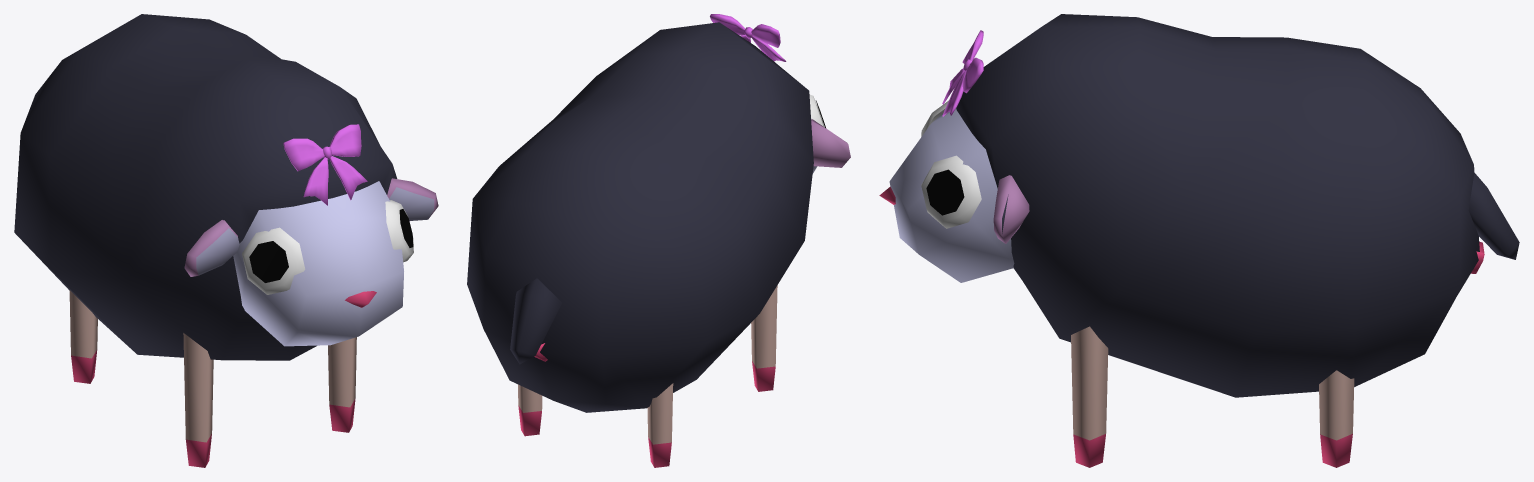
Rendered from Sheep_Black_female.fbx.
3 renders of one model, left to right at view 1: azimuth 30°, elevation 25°; view 2: azimuth 150°, elevation 25°; view 3: azimuth 270°, elevation 25°, orthographic. The views are drawn at different scales.
Parts seen in each view (by area): view 1: Sheep, ribbon_翅_Plane.008; view 2: Sheep, ribbon_翅_Plane.008; view 3: Sheep, ribbon_翅_Plane.008.
Boxes of the visible parts, <box> form: Sheep: <box>14,14,438,467</box>; ribbon_翅_Plane.008: <box>283,124,367,205</box>; Sheep: <box>467,22,850,467</box>; ribbon_翅_Plane.008: <box>710,14,786,61</box>; Sheep: <box>879,14,1519,467</box>; ribbon_翅_Plane.008: <box>942,30,983,116</box>.
Bounding box in the file's own units: 160 × 196 × 286.
